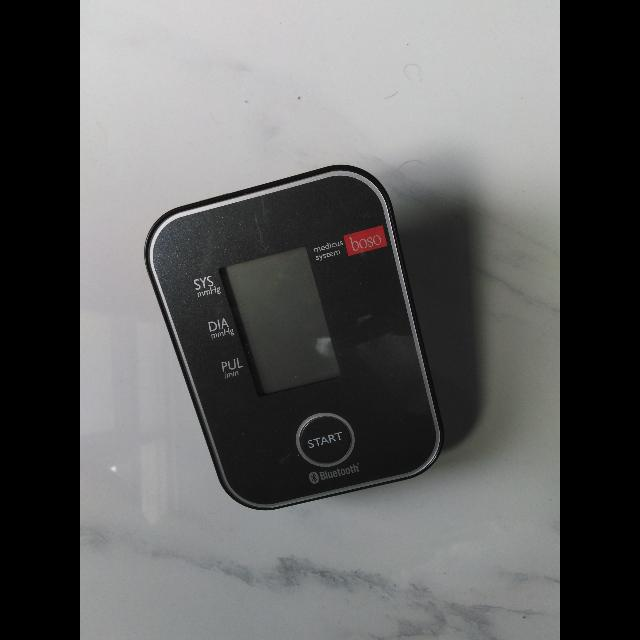Blood-Pressure-Monitor: (135, 176, 499, 512)
